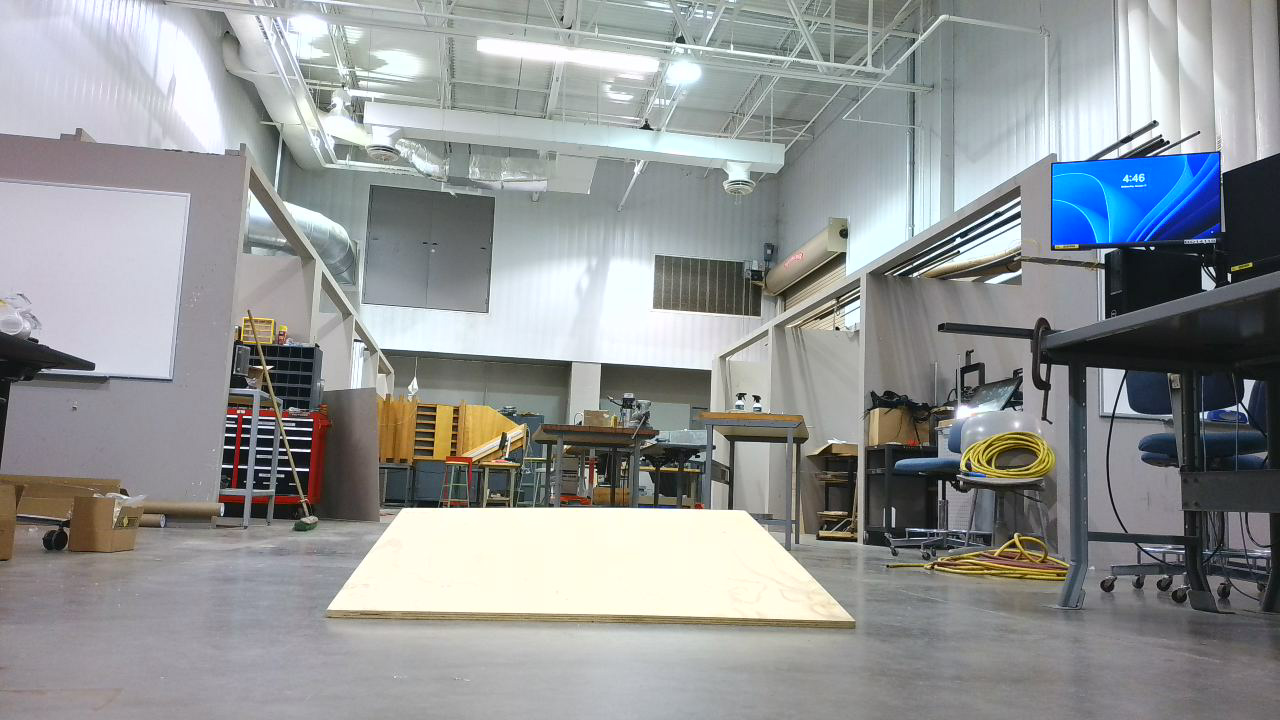ramp: (325, 508, 865, 637)
